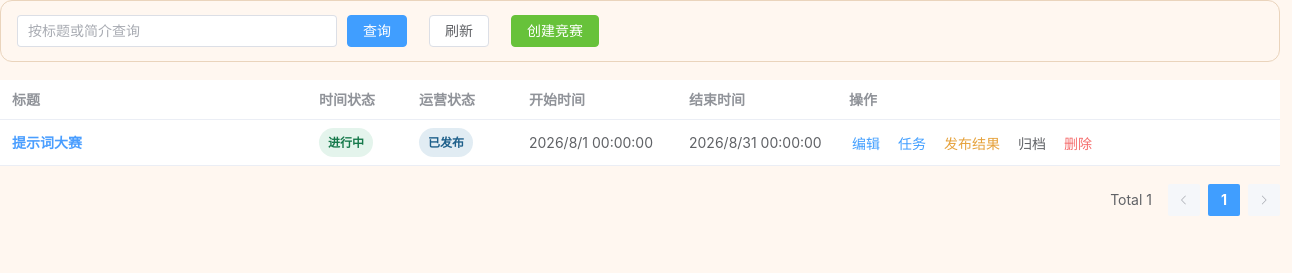
it: AdminCompetitionsPanel 组件 › 发布结果被拒时展示后端错误且不打开结果弹窗
This screenshot has width=1292, height=273.
Click the button "发布结果" at [972, 144], box [941,134,1003,154]
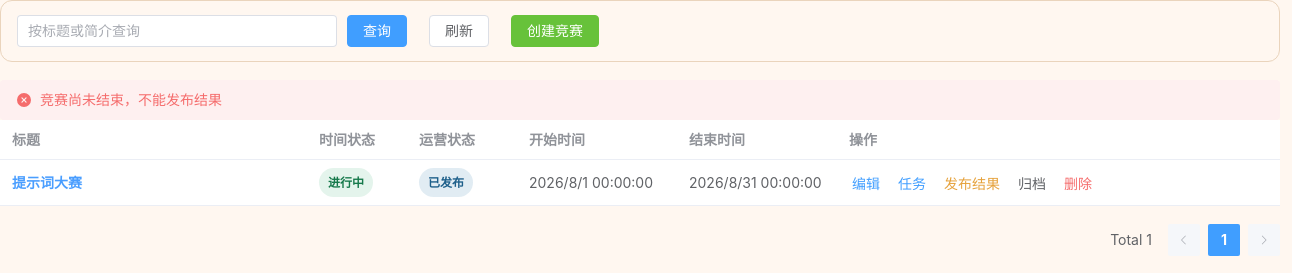
Check: the text "竞赛尚未结束，不能发布结果" is shown, box [40,88,222,112]
